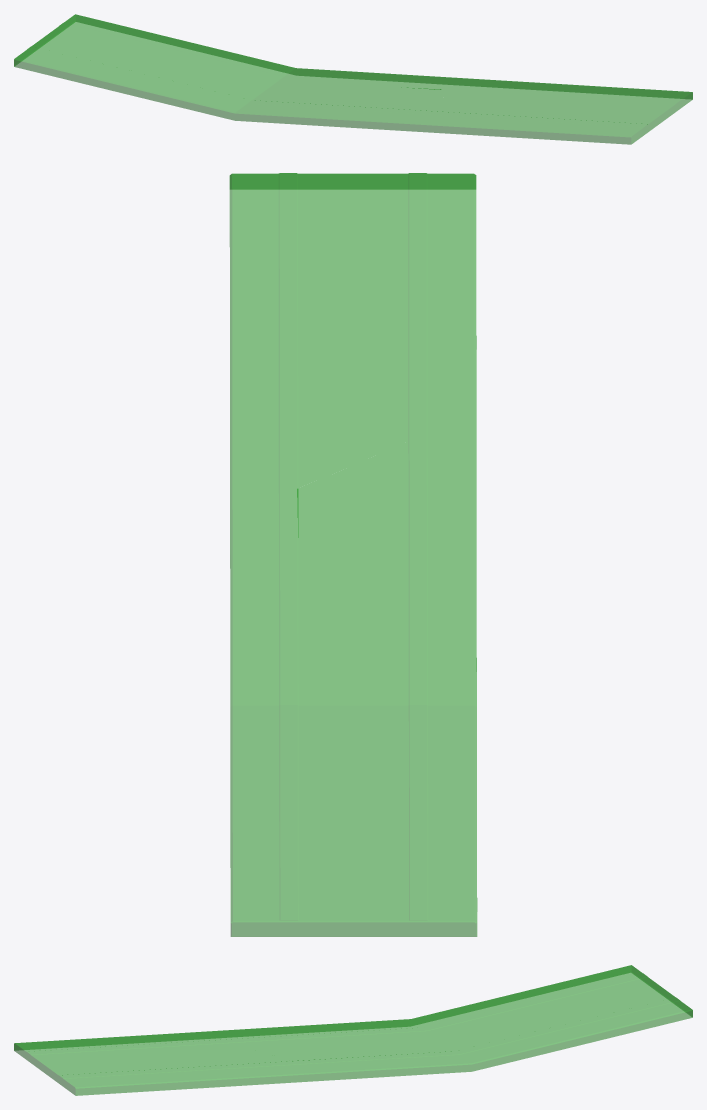
Rendered from Road02.obj.
3 renders of one model, top to bottom at view 1: azimuth 30°, elevation 25°; view 2: azimuth 150°, elevation 25°; view 3: azimuth 270°, elevation 25°, orthographic. The views are drawn at different scales.
Bounding box in the file's own units: 77.44 × 14.93 × 113.
